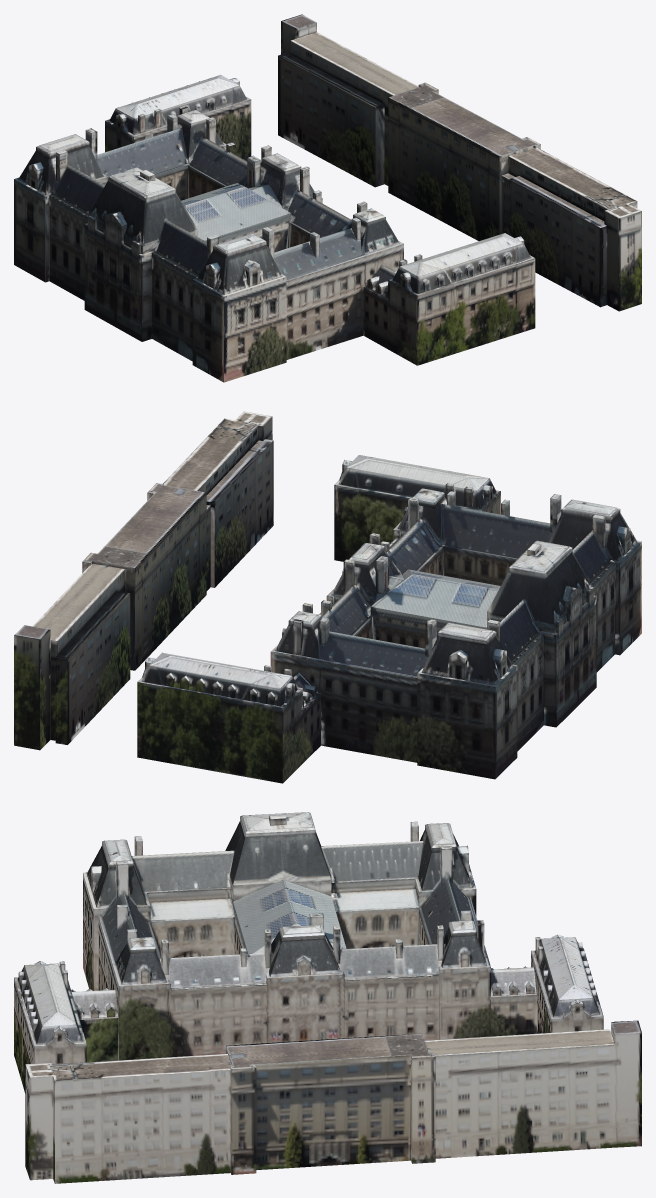
3 views of the same model, one above another, from view 1: azimuth 30°, elevation 25°; view 2: azimuth 150°, elevation 25°; view 3: azimuth 270°, elevation 25° (orthographic). The views are drawn at different scales.
Parts seen in each view (by area): view 1: Z_UP; view 2: Z_UP; view 3: Z_UP.
Part boxes in pixels (bbox=[...]): Z_UP: bbox=[14, 14, 641, 382]; Z_UP: bbox=[14, 411, 641, 783]; Z_UP: bbox=[14, 812, 641, 1183].
Bounding box in the file's own units: 118 × 36.49 × 132.
2 materials, 1 textured.
